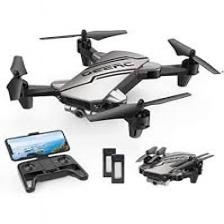drone: (0, 25, 224, 139)
